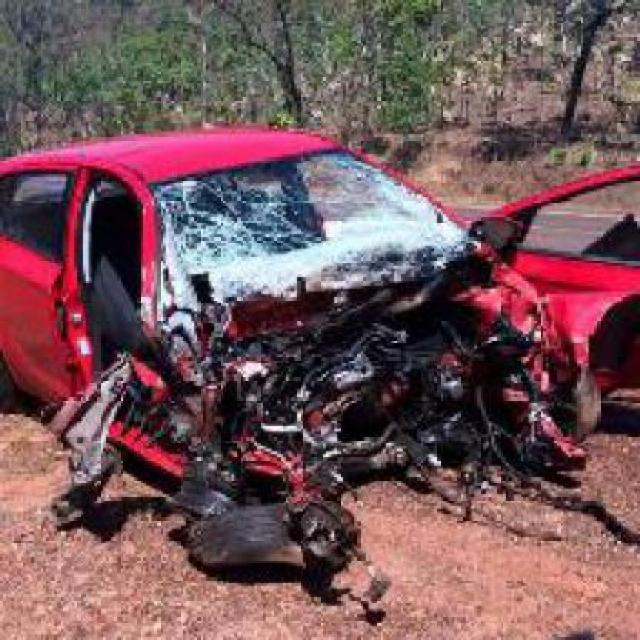damaged-door: (82, 167, 148, 441)
damaged-windscreen: (151, 140, 471, 272)
